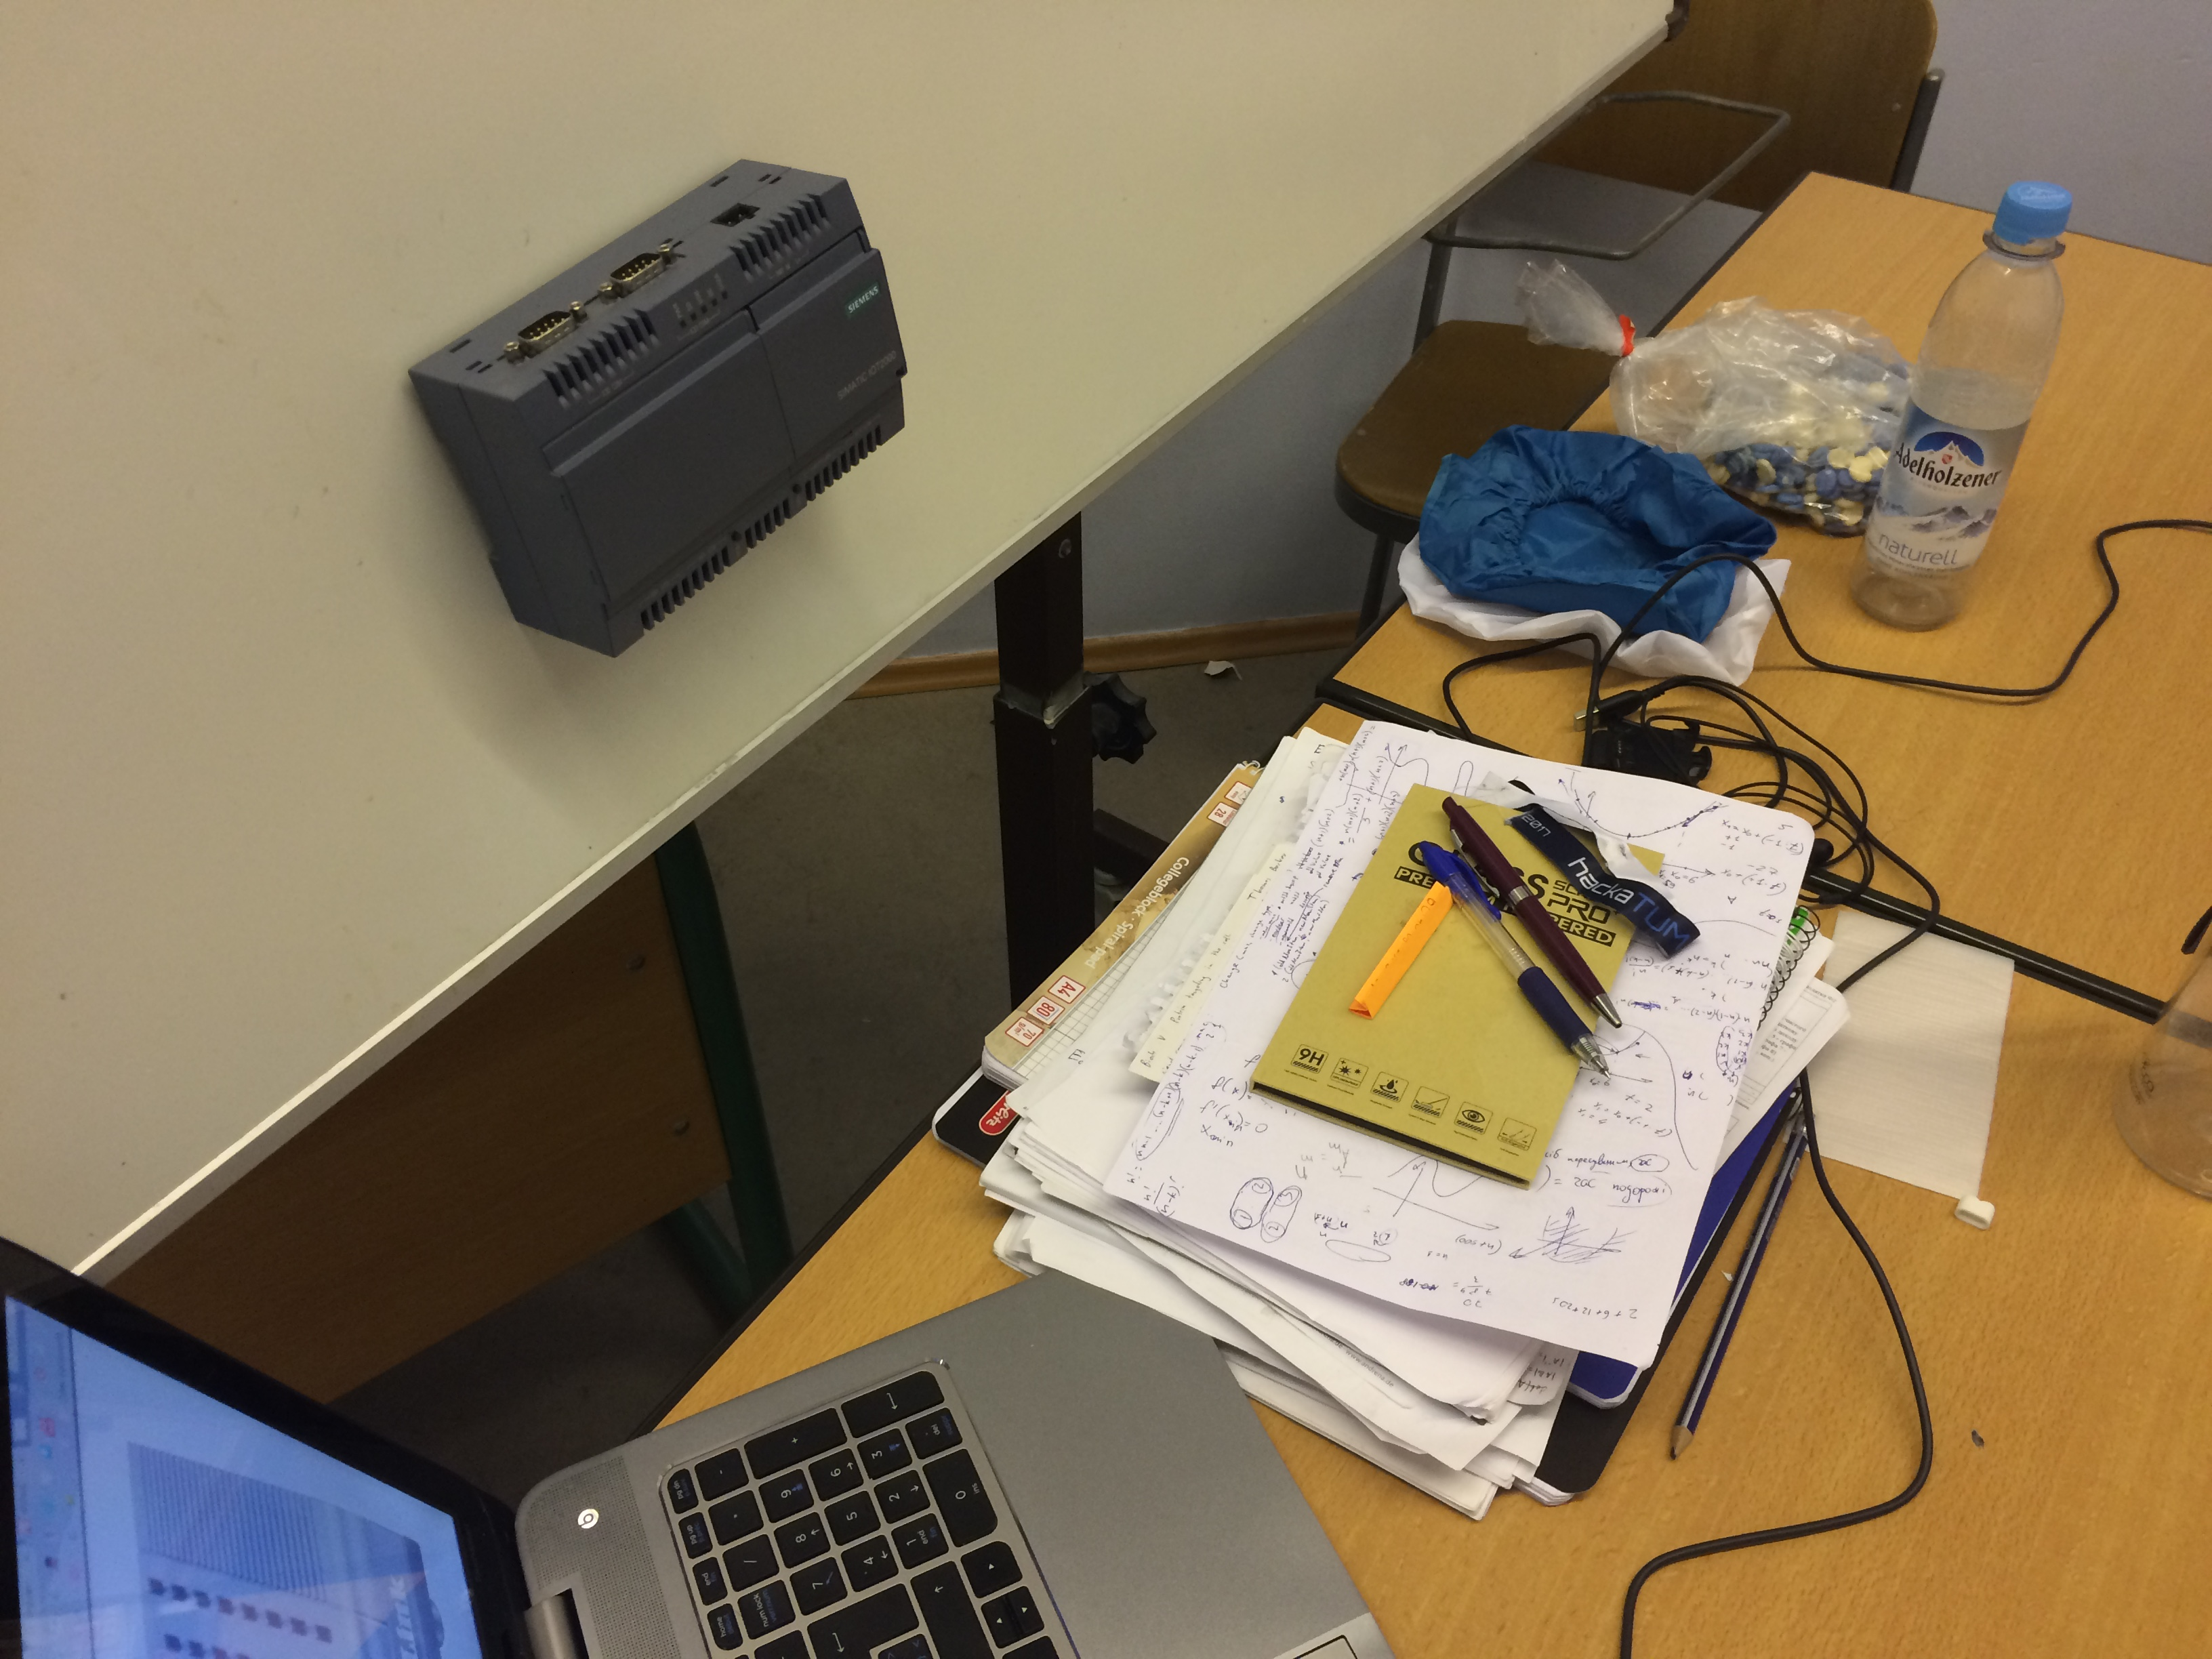iot2000: (406, 155, 913, 664)
